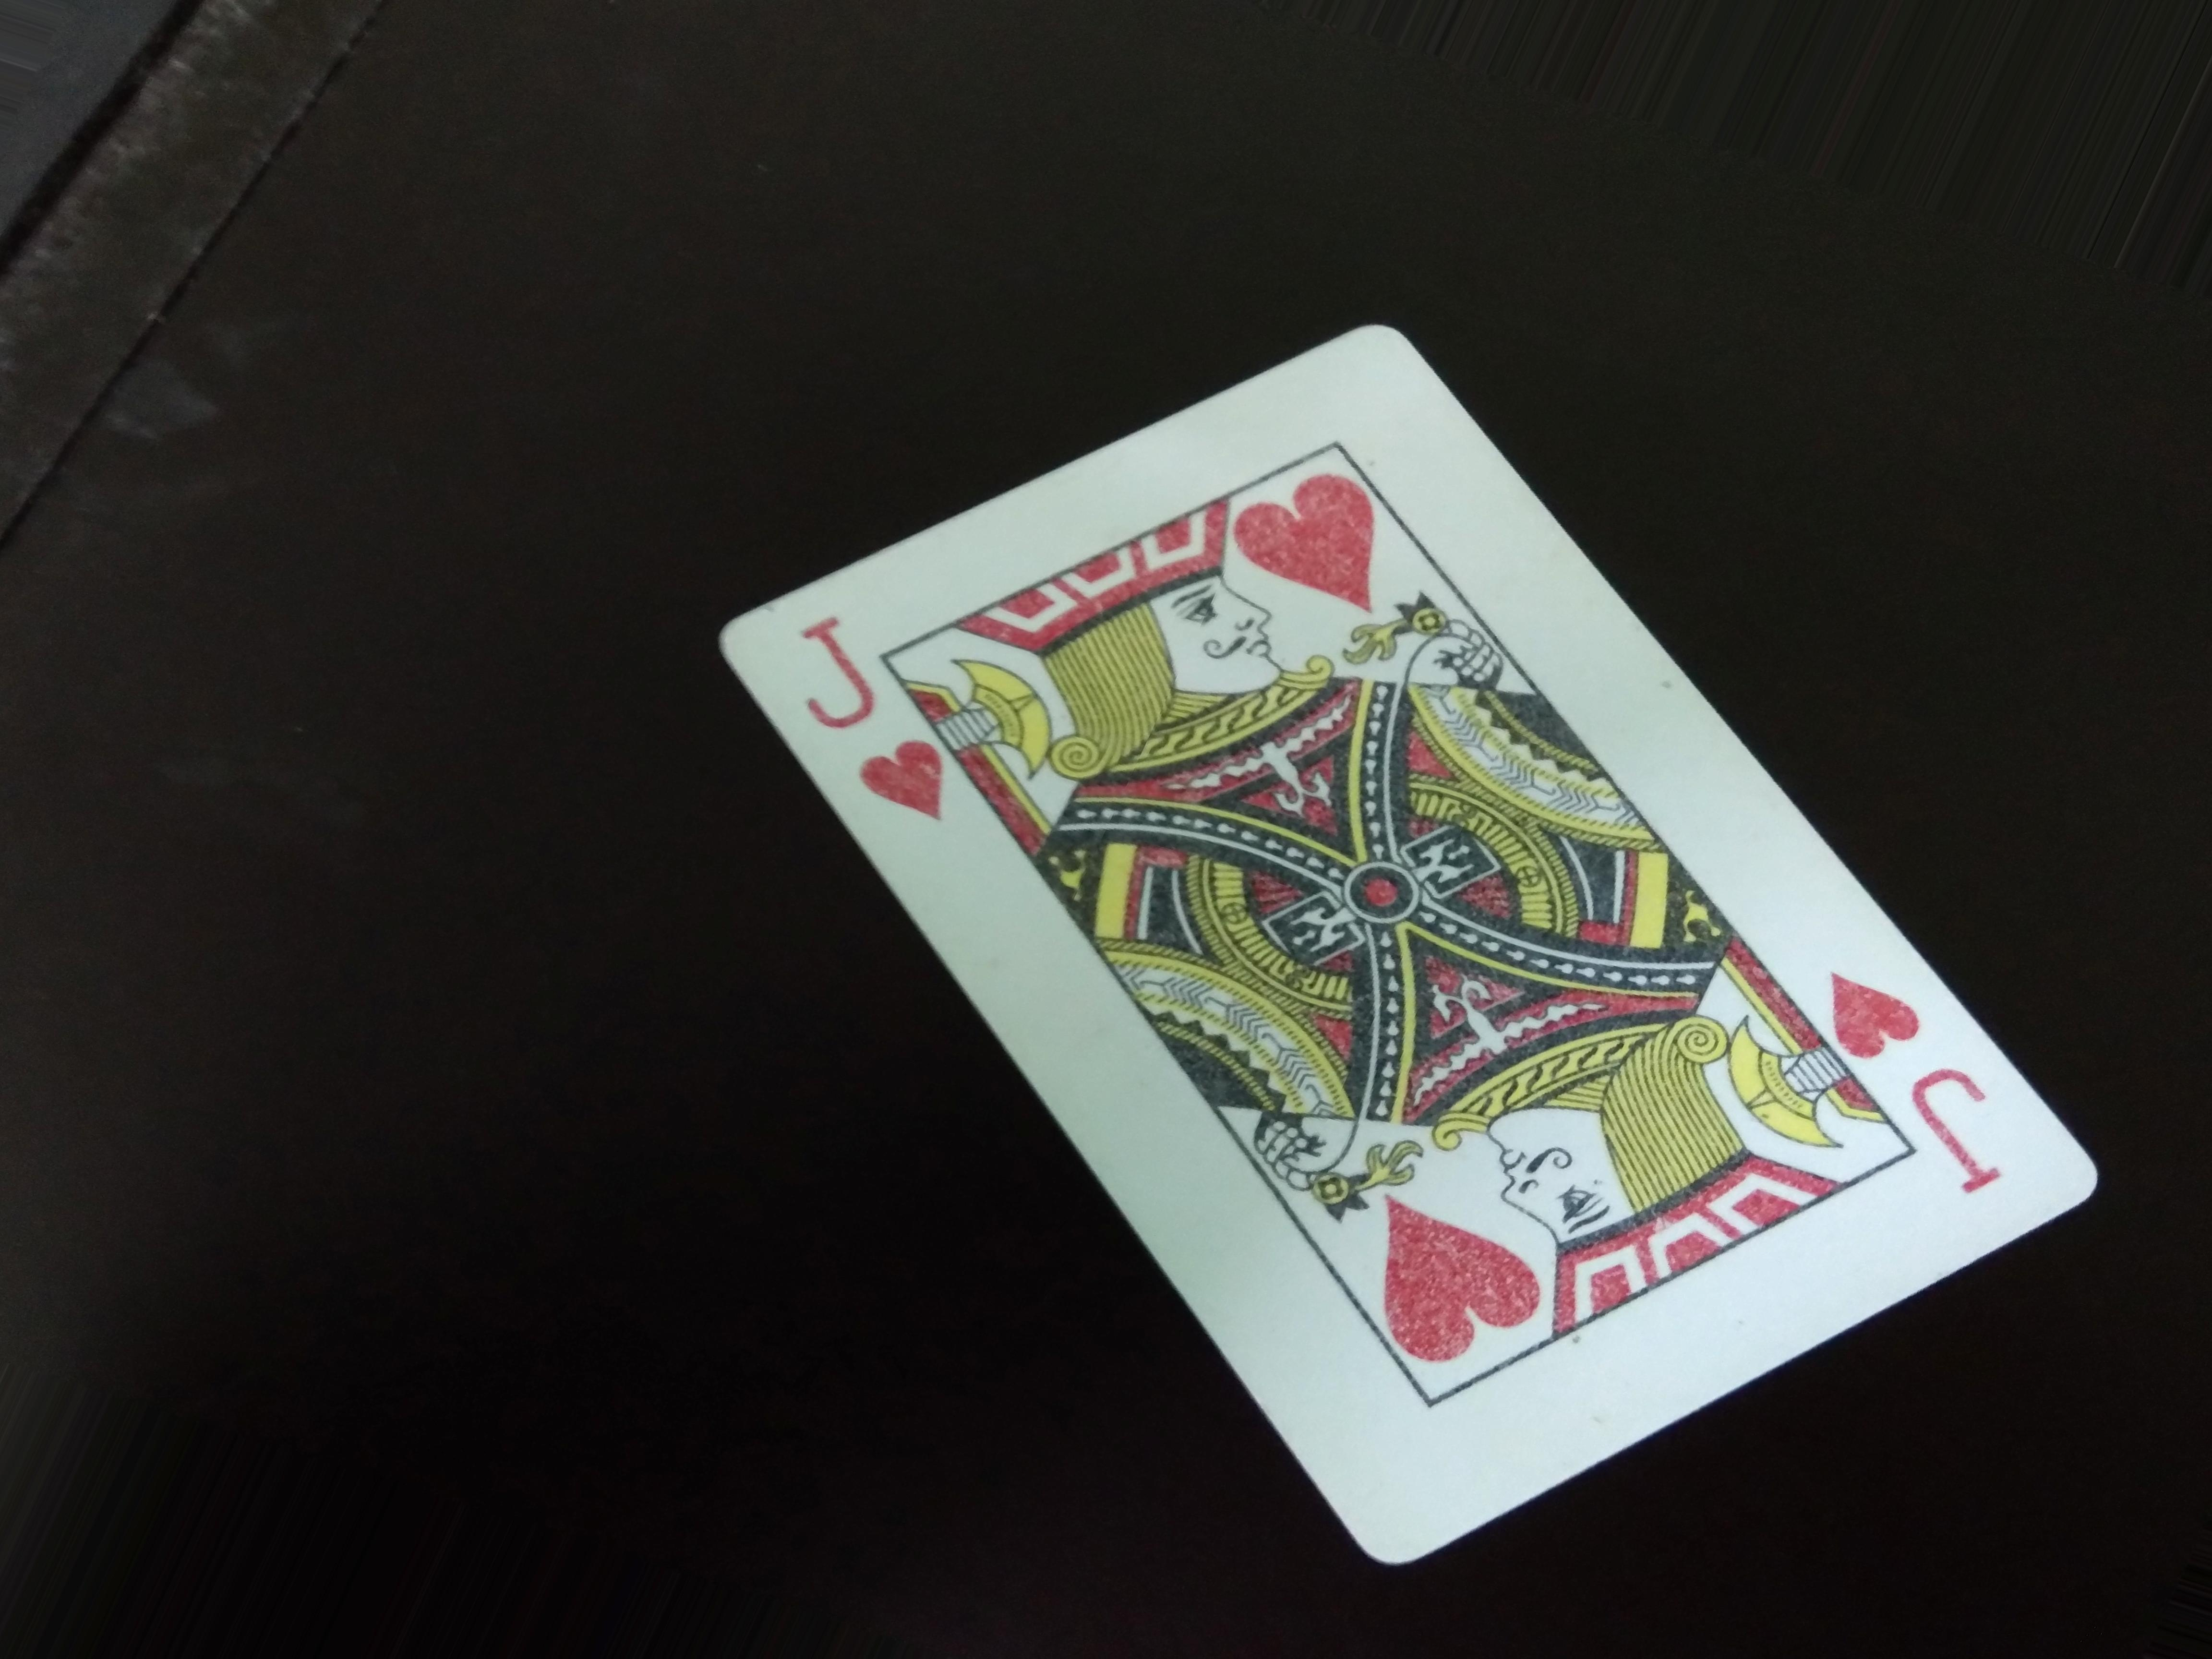JH: (786, 605, 968, 836)
